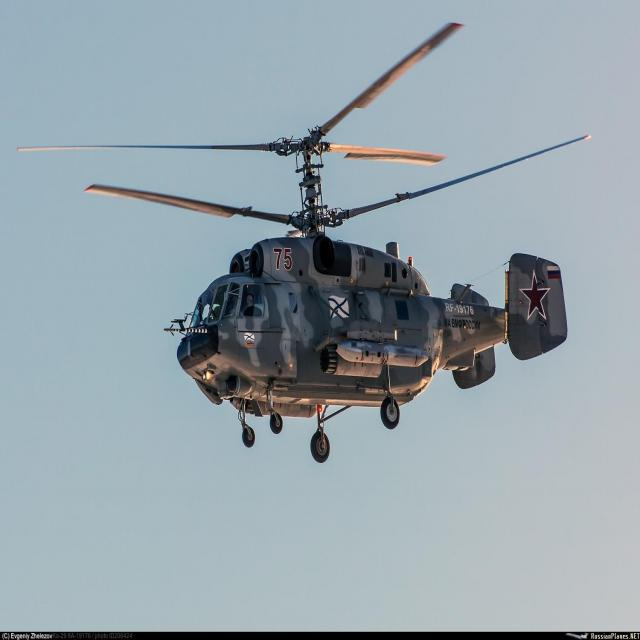MIL_HELO: (8, 15, 604, 464)
